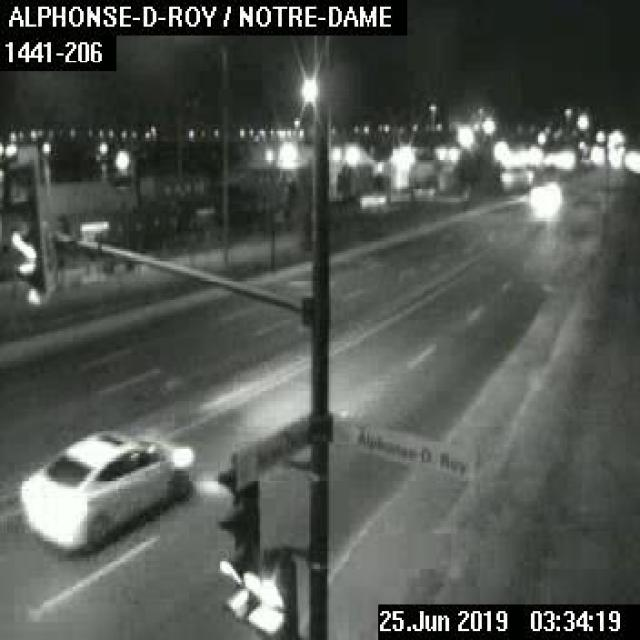vehicle: (16, 431, 191, 549)
